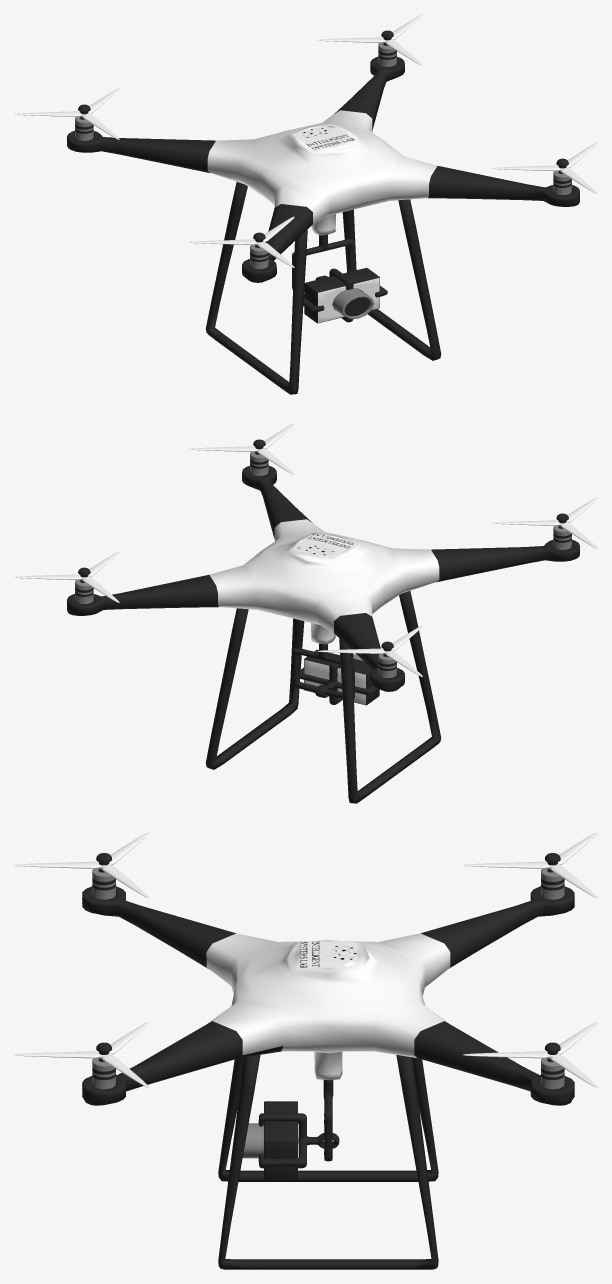
Rendered from quadcopter.fbx.
3 views of the same model, one above another, from view 1: azimuth 30°, elevation 25°; view 2: azimuth 150°, elevation 25°; view 3: azimuth 270°, elevation 25° (orthographic). The views are drawn at different scales.
Parts seen in each view (by area): view 1: Quadcopter, Drone Camera, Back Left Propeller, Back Right Propeller, Front Left Propeller, Front Right Propeller, Attachment; view 2: Quadcopter, Drone Camera, Attachment, Front Left Propeller, Front Right Propeller, Back Right Propeller, Back Left Propeller; view 3: Quadcopter, Drone Camera, Attachment, Back Left Propeller, Front Left Propeller, Back Right Propeller, Front Right Propeller.
Boxes of the visible parts, x1,y1,x2,y2 form: Quadcopter: (67, 30, 579, 394); Drone Camera: (304, 267, 379, 323); Back Left Propeller: (317, 14, 422, 65); Back Right Propeller: (14, 88, 119, 139); Front Left Propeller: (492, 142, 597, 193); Front Right Propeller: (189, 216, 294, 267); Attachment: (303, 268, 387, 322); Quadcopter: (67, 439, 579, 803); Drone Camera: (304, 649, 379, 705); Attachment: (299, 653, 378, 704); Front Left Propeller: (189, 423, 294, 474); Front Right Propeller: (492, 497, 597, 548); Back Right Propeller: (317, 625, 422, 676); Back Left Propeller: (14, 551, 119, 602); Quadcopter: (82, 853, 574, 1269); Drone Camera: (242, 1101, 297, 1180); Attachment: (258, 1113, 339, 1168); Back Left Propeller: (463, 1022, 597, 1087); Front Left Propeller: (14, 1022, 149, 1087); Back Right Propeller: (463, 832, 597, 898); Front Right Propeller: (14, 832, 149, 898).
Size of the model in its own units: 0.4766 by 0.2397 by 0.4603.
Materials: 4 (1 with a texture image).
